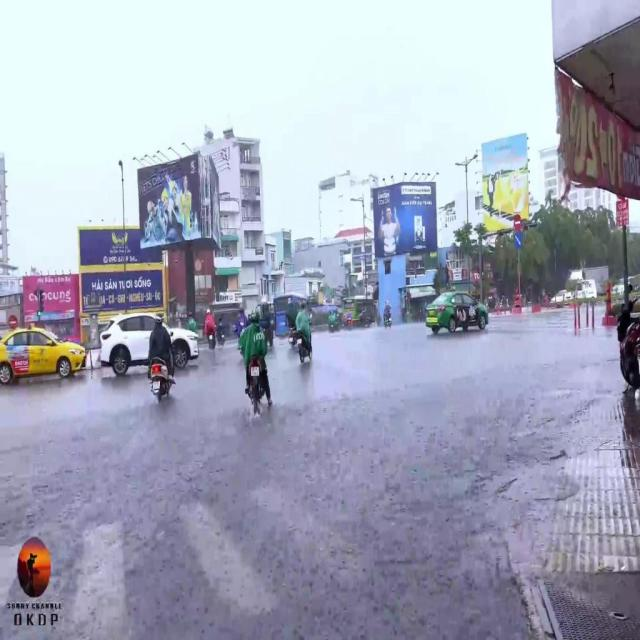cam_xe_di_nguoc_chieu: (513, 214, 522, 230)
huong_phai_di_vuot_chuong_ngai_vat_phai: (513, 230, 523, 250)
